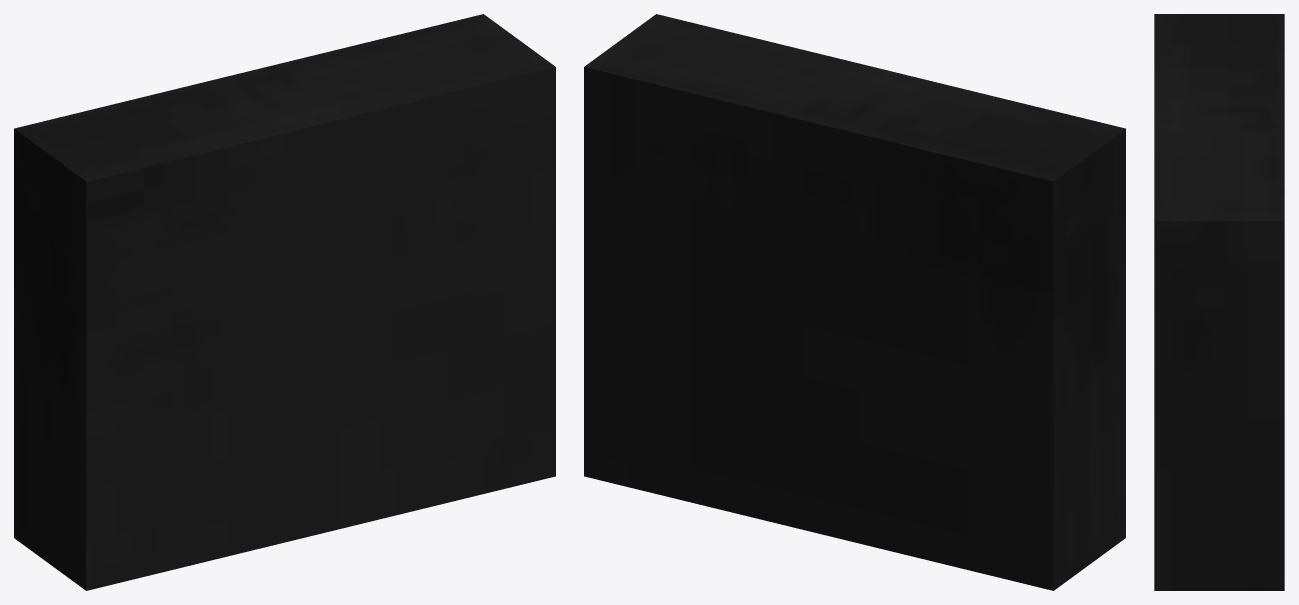
File: frame__rear_foot_0.glb
3 views of the same model, side by side, from view 1: azimuth 30°, elevation 25°; view 2: azimuth 150°, elevation 25°; view 3: azimuth 270°, elevation 25° (orthographic). The views are drawn at different scales.
Visible parts, largest first — view 1: world; view 2: world; view 3: world.
Part boxes in pixels (x1,y1,x2,y2): world: (14, 14, 555, 590); world: (584, 14, 1125, 590); world: (1154, 14, 1284, 590).
Size of the model in its own units: 0.06 by 0.05 by 0.016.
Materials: 1 (1 with a texture image).
